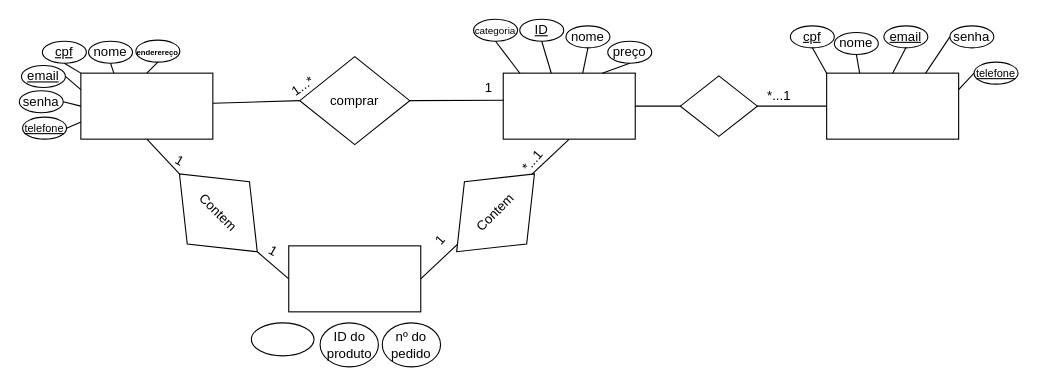
Image size: 1037x386. Some labels were removed from this diagram. Each missing label, with the centre of its shape:
"Administrador" belongs at point 892,105.
"cpf do usuario" belongs at point 282,339.
"gerencia" belongs at point 718,105.
"Pedido" belongs at point 354,278.
"Produto" belongs at point 568,105.
"Usuário" belongs at point 146,105.
